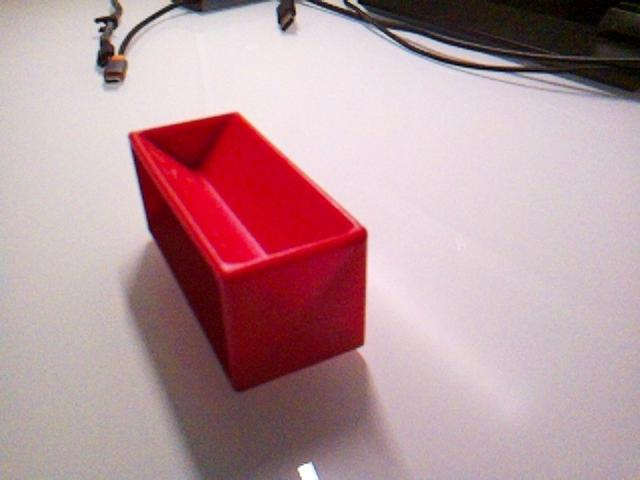red: (127, 109, 370, 392)
